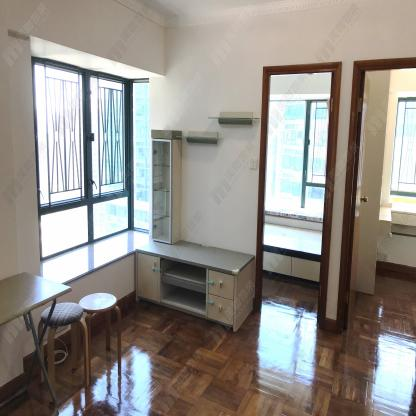Dining Table: (0, 270, 72, 327)
Windowsill: (29, 36, 151, 285)
